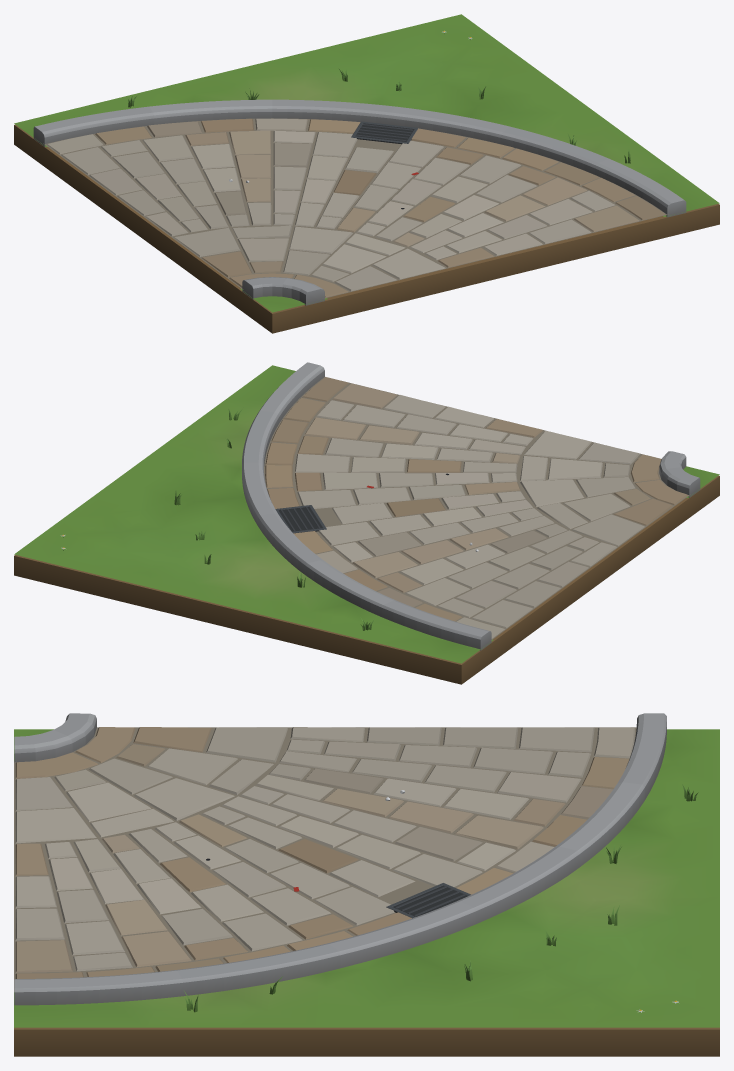
The model's file is road-midway-corner.glb.
The picture shows the model from 3 angles, top to bottom: view 1: azimuth 30°, elevation 25°; view 2: azimuth 150°, elevation 25°; view 3: azimuth 270°, elevation 25°; orthographic projection. The views are drawn at different scales.
Visible parts, largest first — view 1: road_midway_corner; view 2: road_midway_corner; view 3: road_midway_corner.
Part boxes in pixels (left/top/right/bottom): road_midway_corner: left=14, top=14, right=719, bottom=333; road_midway_corner: left=14, top=362, right=719, bottom=684; road_midway_corner: left=14, top=713, right=719, bottom=1056.
Bounding box in the file's own units: 4 × 0.2971 × 4.
